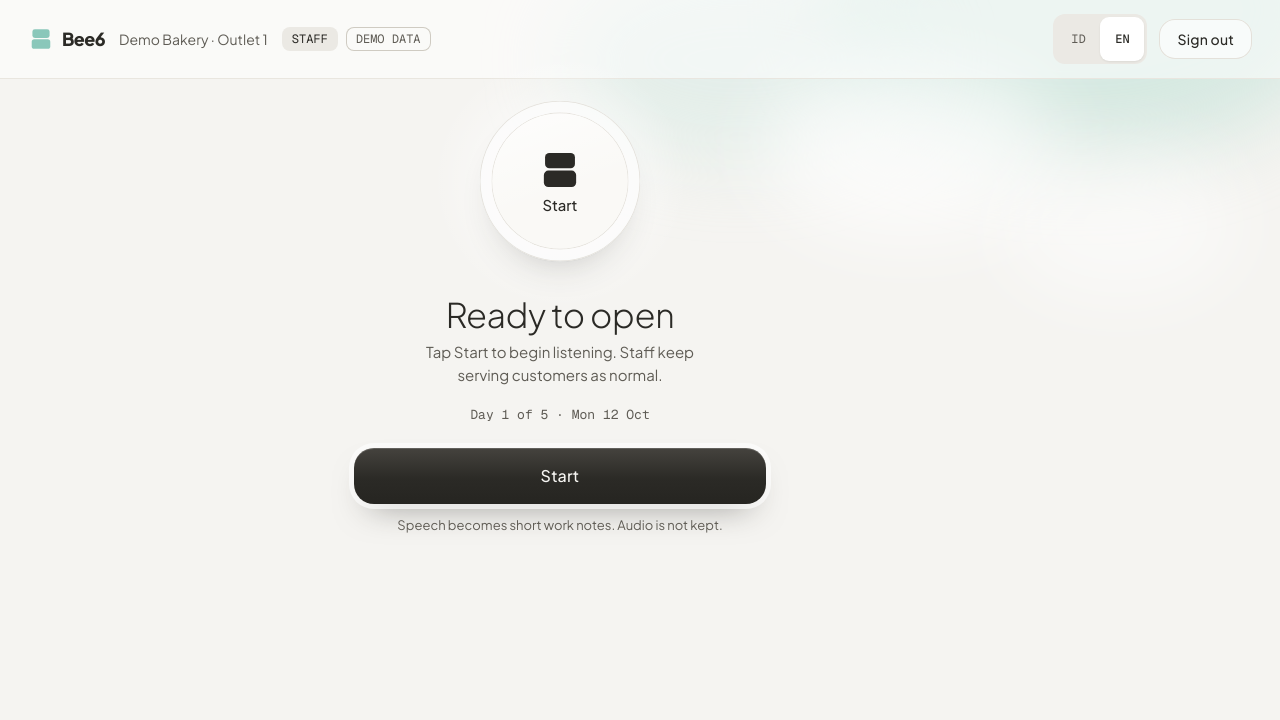
it: sandbox capture screen (R-25 T5): document order and landmarks › End today opens the confirm as a labelled sheet over the screen: Not yet keeps listening, focus returns to End
Click the button "Start" at [560, 476], box [354,448,766,504]
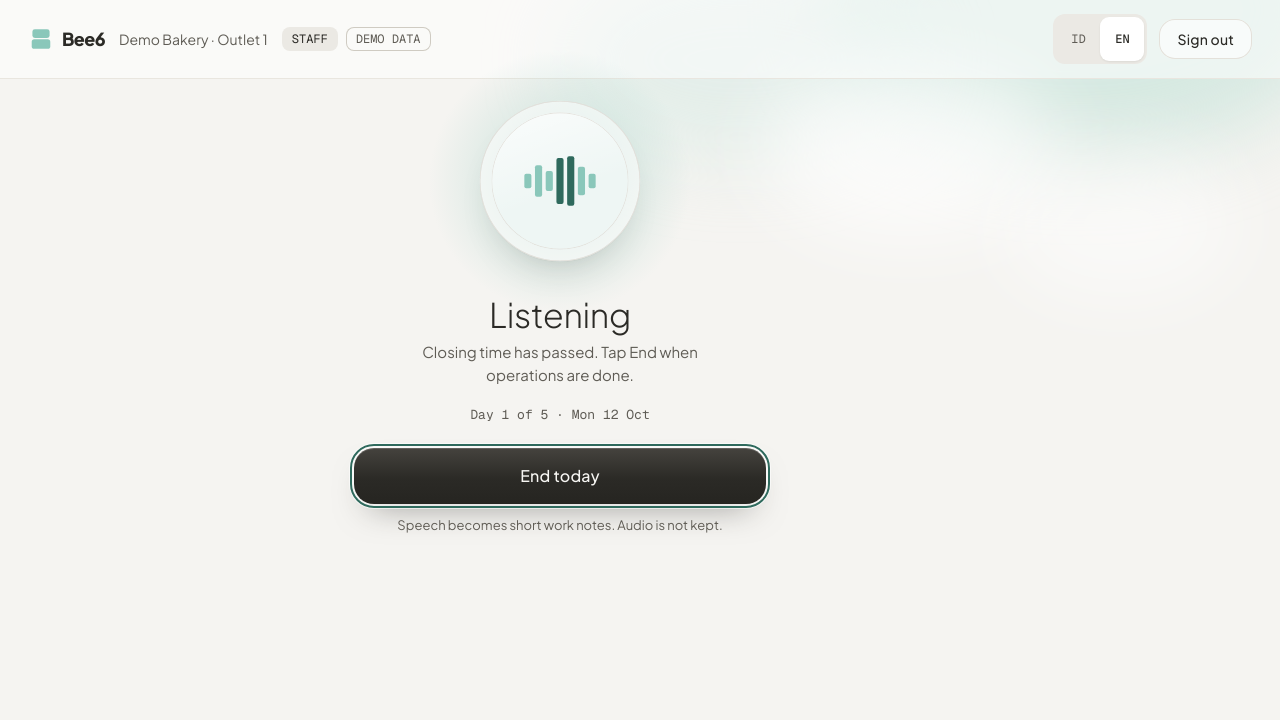
Expected: the heading "Listening" is shown, [489,295,631,334]
Click the button "End today" at [560, 476], box [354,448,766,504]
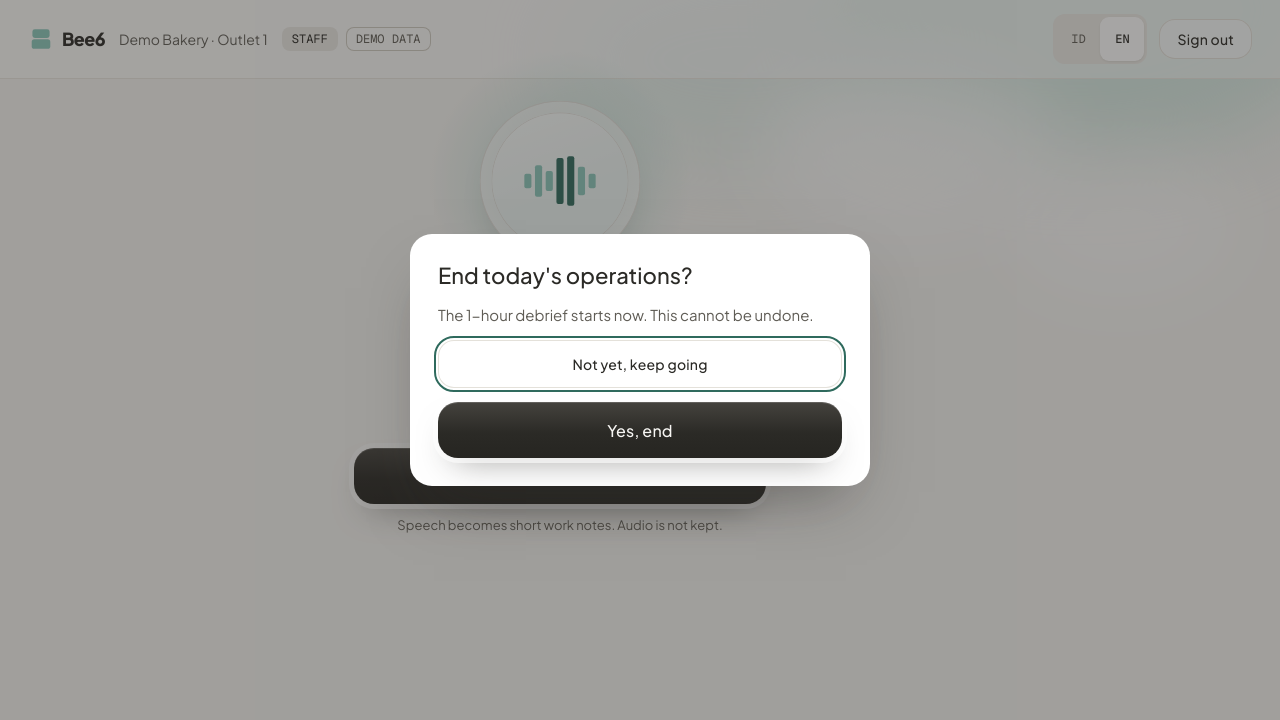
Expected: the heading "Listening" is shown, [489,295,631,334]
Expected: the dialog "End today's operations?" shows "The 1-hour debrief starts now. This cannot be undone.", [438,304,814,324]
Press Escape
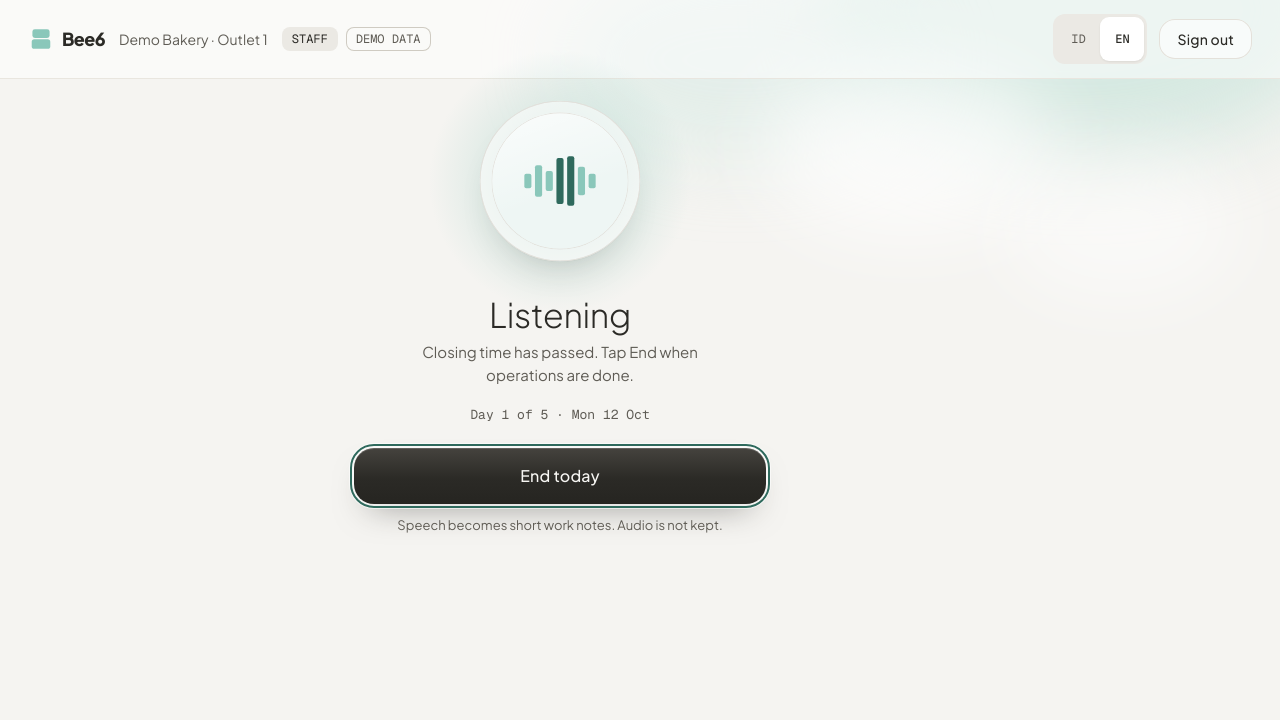
Expected: the dialog is gone
